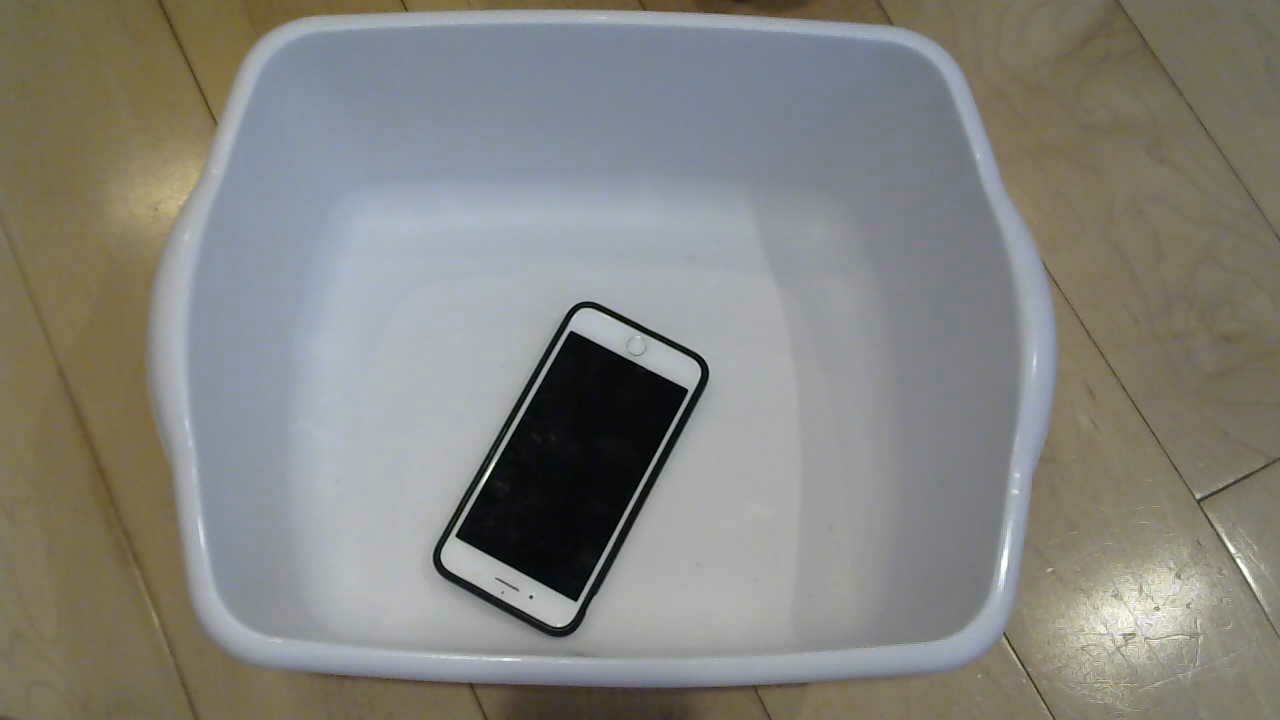phone: (446, 309, 725, 643)
